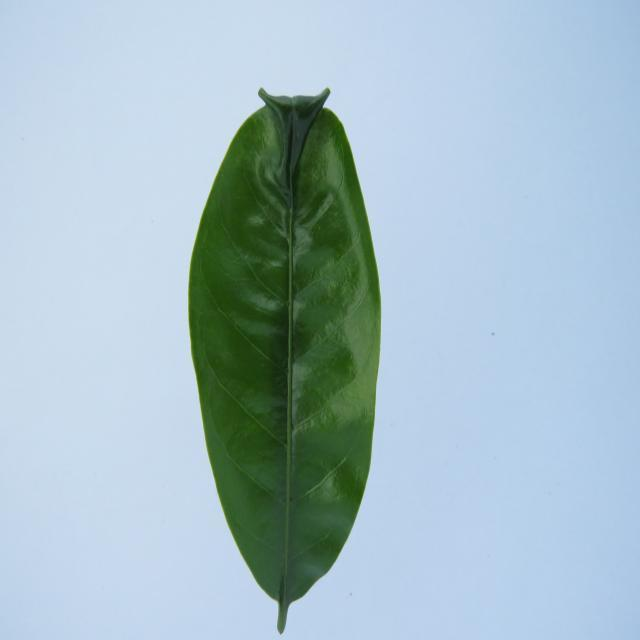DeficienciaNutricional-Boro: (189, 90, 381, 633)
